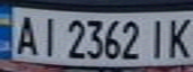2: (121, 16, 145, 61), (63, 15, 87, 60)
3: (84, 16, 106, 61)
6: (103, 17, 124, 61)
A: (9, 11, 42, 56)
I: (145, 16, 169, 61), (36, 14, 60, 57)
K: (163, 15, 193, 60)
